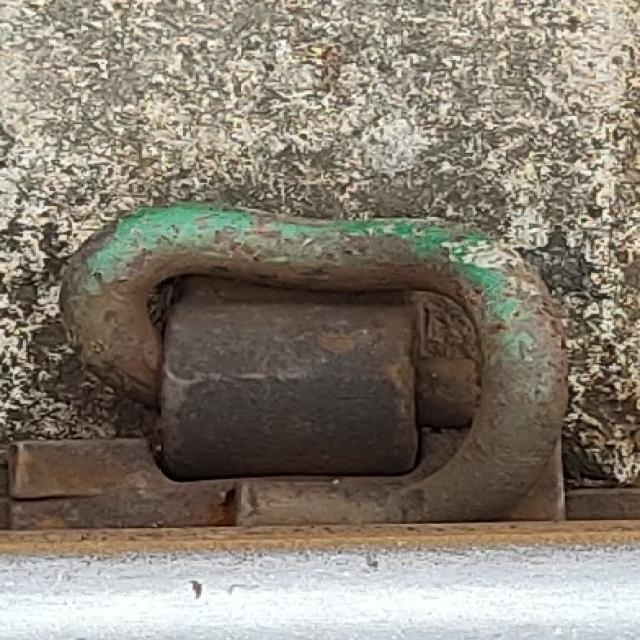track_bolt: (53, 193, 578, 525)
